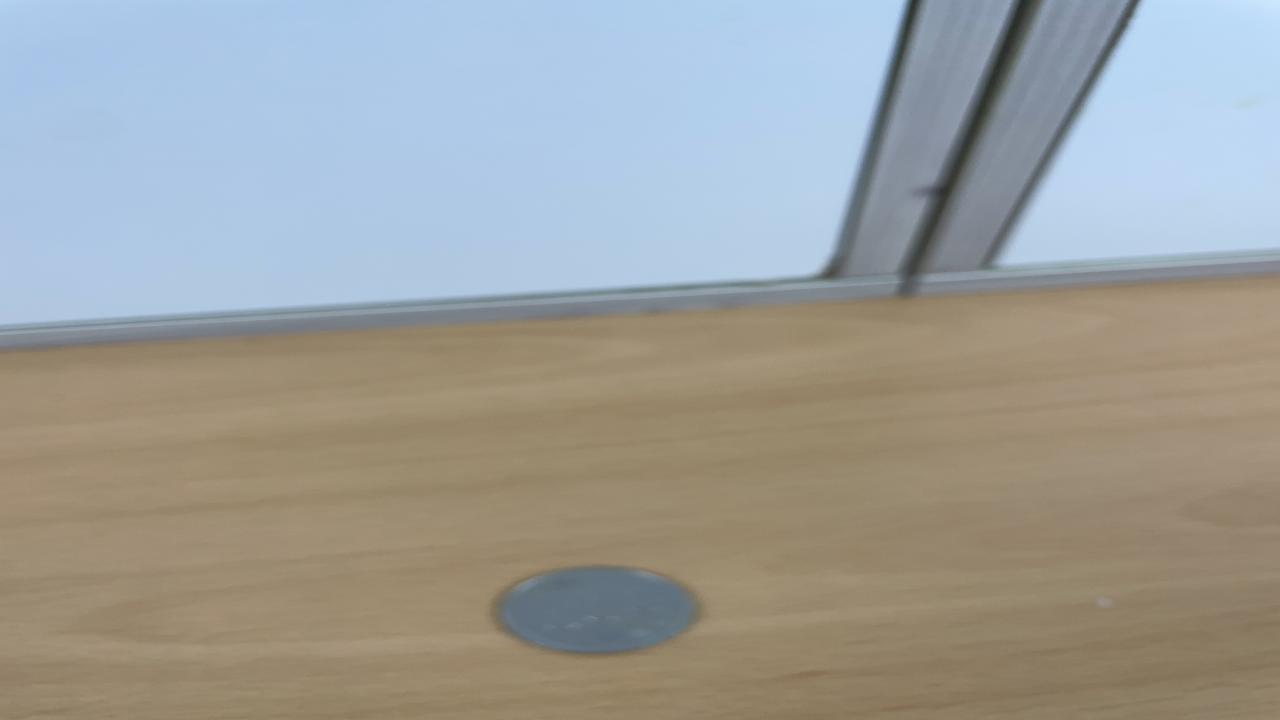coin: (486, 562, 709, 656)
